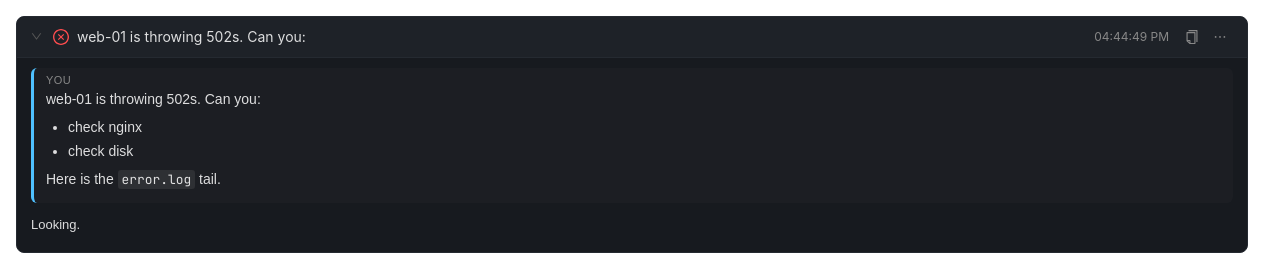
it: card prompt rendering › hides the prompt with the rest of the body when the card collapses
Click the text with test id "card-title" at (191, 36), box [77,28,306,45]
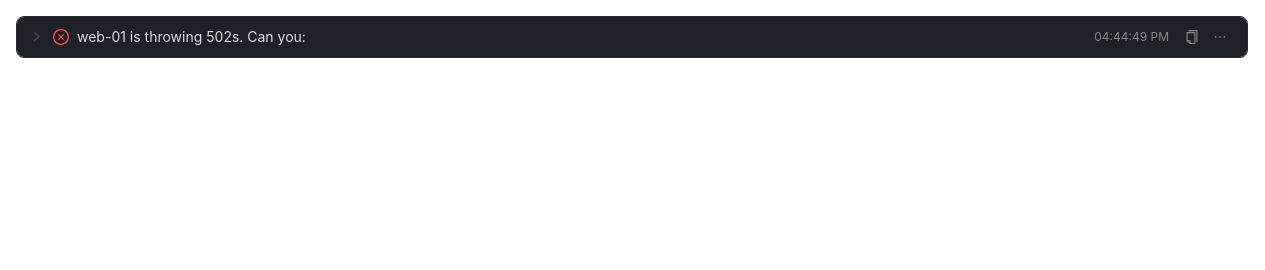
Now the element with test id "prompt-message" is gone
